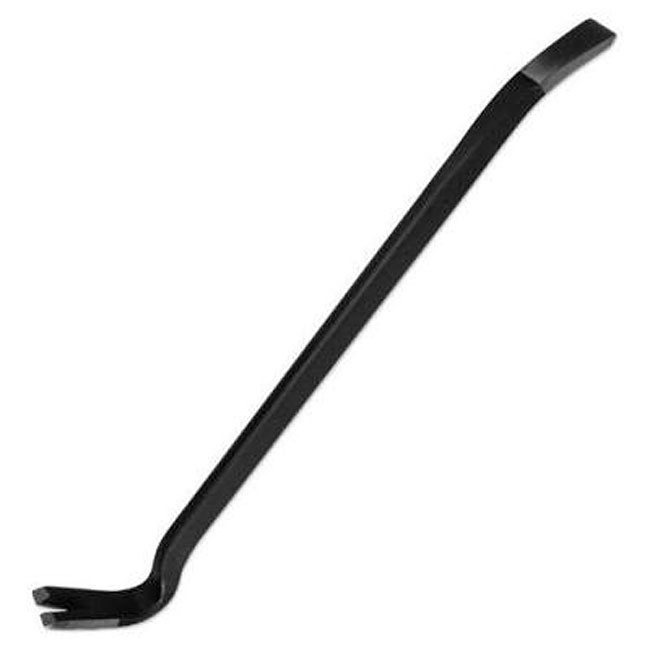crowbar: (38, 2, 630, 645)
